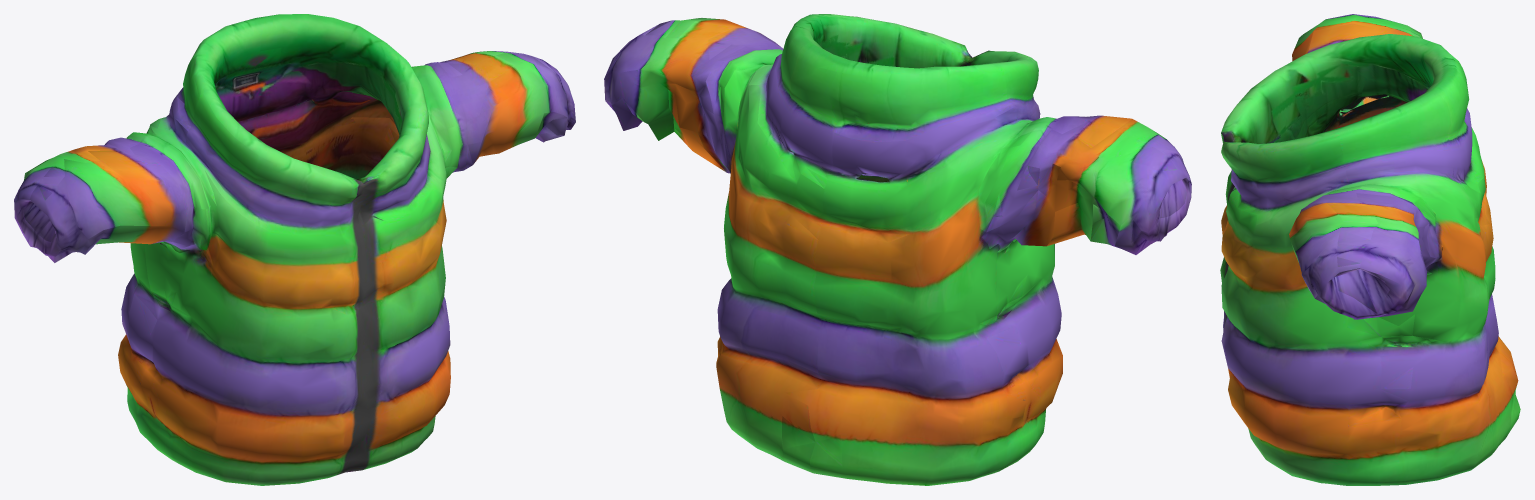
Rendered from Puffy-Jacket-Stripes-v8.glb.
The picture shows the model from 3 angles, left to right: view 1: azimuth 30°, elevation 25°; view 2: azimuth 150°, elevation 25°; view 3: azimuth 270°, elevation 25°; orthographic projection. The views are drawn at different scales.
Parts seen in each view (by area): view 1: Puffy-Jacket-Stripes-v8; view 2: Puffy-Jacket-Stripes-v8; view 3: Puffy-Jacket-Stripes-v8.
Part boxes in pixels (bbox=[...]): Puffy-Jacket-Stripes-v8: bbox=[14, 14, 575, 485]; Puffy-Jacket-Stripes-v8: bbox=[604, 14, 1191, 485]; Puffy-Jacket-Stripes-v8: bbox=[1220, 14, 1520, 485].
Size of the model in its own units: 0.719 by 0.4987 by 0.3684.
1 material, 1 textured.
